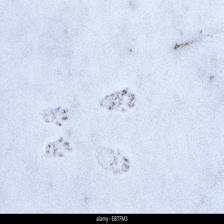squirrel: (35, 104, 76, 129)
